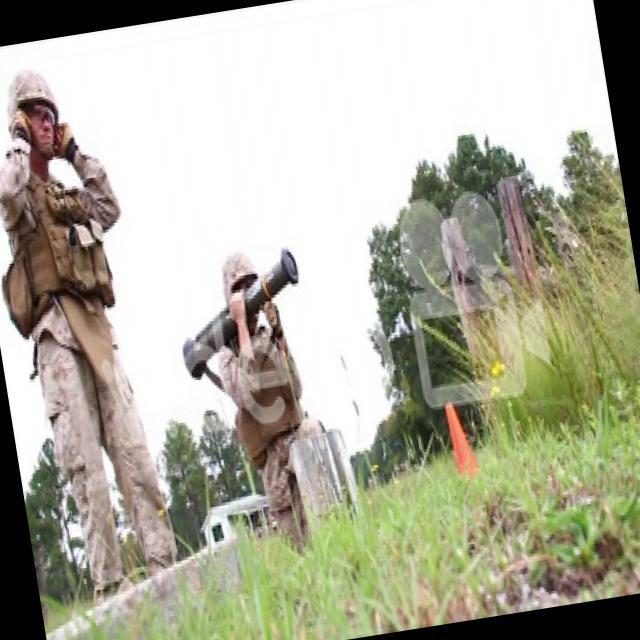rocket: (162, 246, 314, 386)
